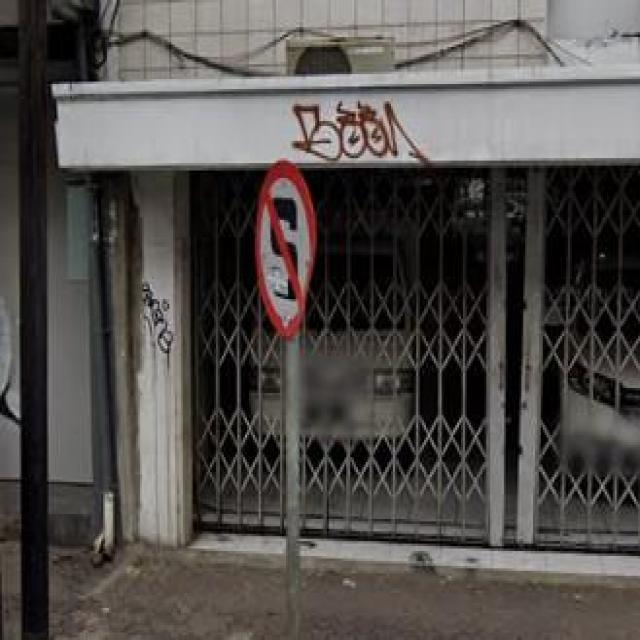do_not_stop: (257, 158, 314, 336)
